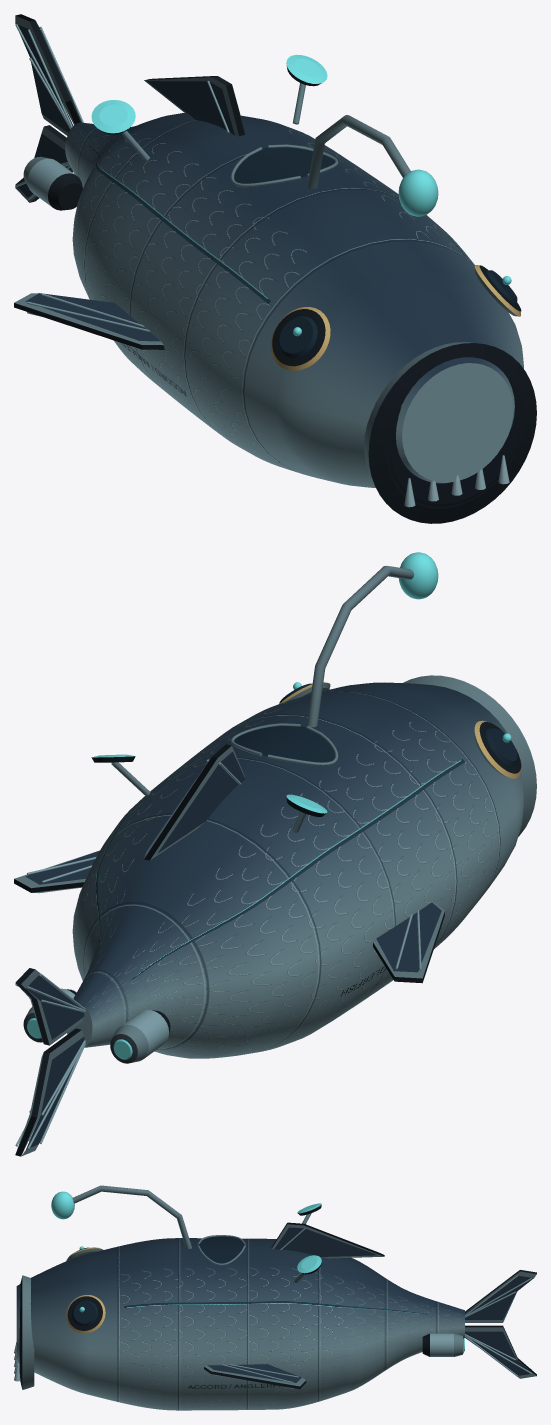
Rendered from anglerfish.glb.
3 renders of one model, top to bottom at view 1: azimuth 30°, elevation 25°; view 2: azimuth 150°, elevation 25°; view 3: azimuth 270°, elevation 25°, orthographic. The views are drawn at different scales.
Parts seen in each view (by area): view 1: anglerfish_hull; view 2: anglerfish_hull; view 3: anglerfish_hull.
Boxes of the visible parts, x1=… form: anglerfish_hull: x1=14, y1=14, x2=536, y2=523; anglerfish_hull: x1=14, y1=552, x2=536, y2=1156; anglerfish_hull: x1=14, y1=1185, x2=536, y2=1410.
Bounding box in the file's own units: 9.08 × 7.72 × 17.
Materials: 1 (1 with a texture image).
